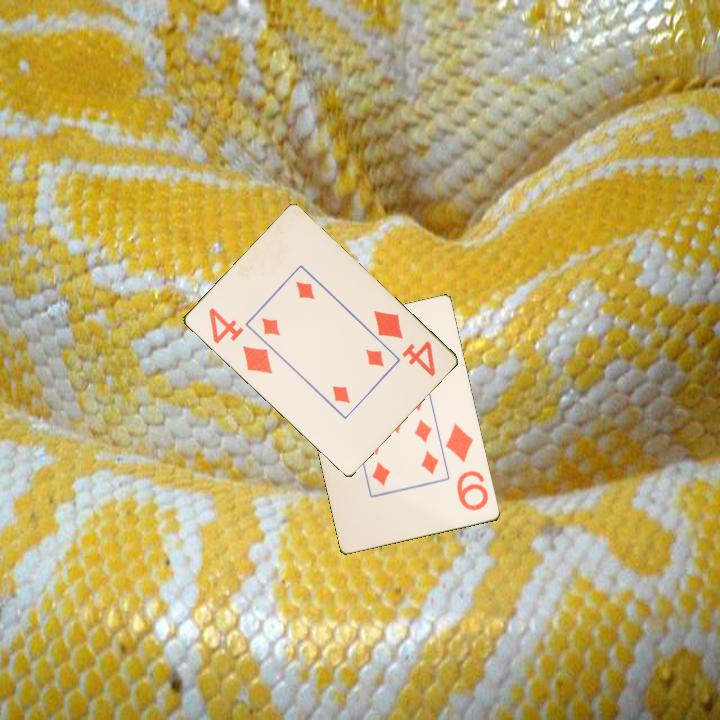4d: (205, 304, 275, 377), (369, 307, 438, 380)
9d: (442, 420, 492, 514)
